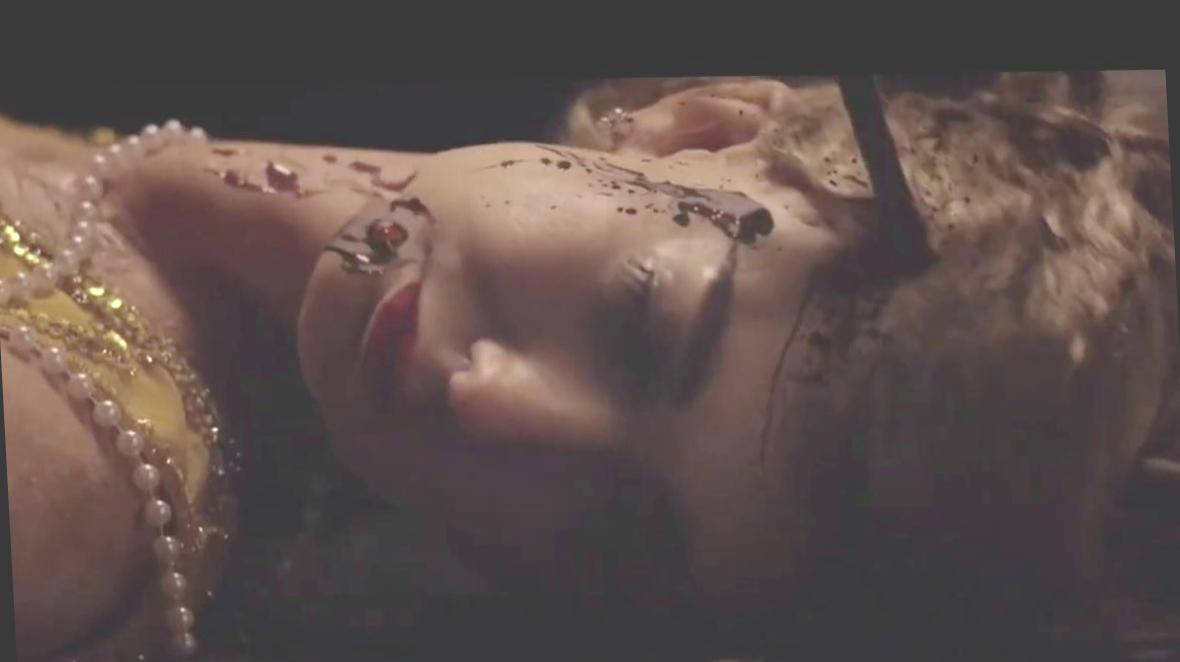Fire: (471, 138, 773, 240), (200, 145, 434, 273), (988, 73, 1123, 175), (812, 210, 933, 304), (917, 96, 974, 183), (785, 315, 841, 388), (809, 145, 869, 191), (139, 139, 170, 155), (324, 151, 338, 158)
